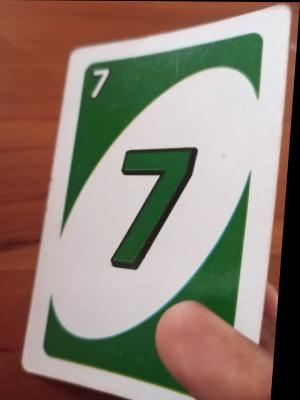green: (62, 59, 259, 362)
num_7: (84, 65, 120, 104)
